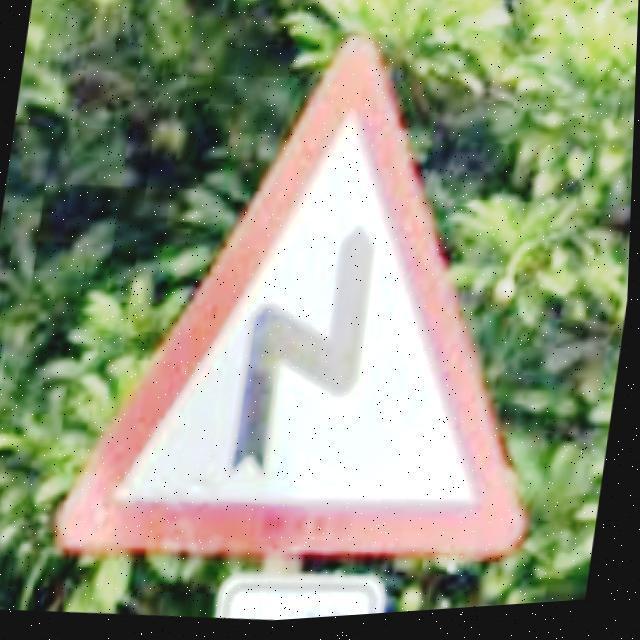doublebendright: (63, 45, 528, 567)
